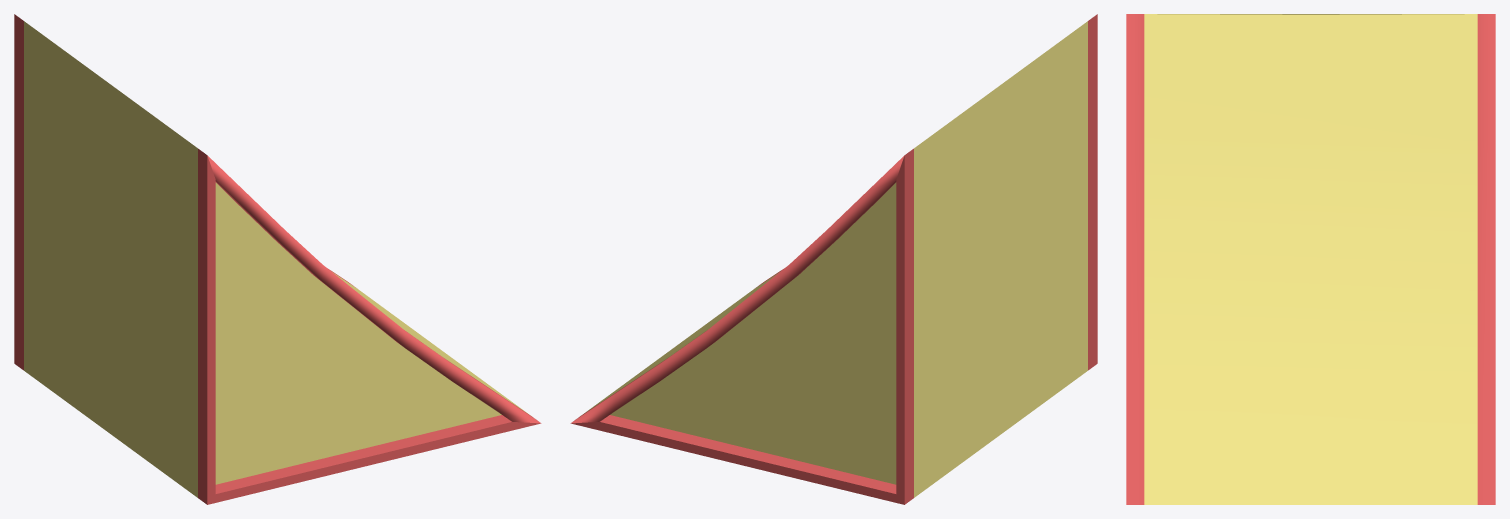
Rendered from Ramp.fbx.
The picture shows the model from 3 angles, left to right: view 1: azimuth 30°, elevation 25°; view 2: azimuth 150°, elevation 25°; view 3: azimuth 270°, elevation 25°; orthographic projection. The views are drawn at different scales.
Visible parts, largest first — view 1: Ramp; view 2: Ramp; view 3: Ramp.
Boxes of the visible parts, x1,y1,x2,y2 form: Ramp: (14,14,541,504); Ramp: (570,14,1097,504); Ramp: (1126,14,1495,504).
Bounding box in the file's own units: 400 × 400 × 400.
